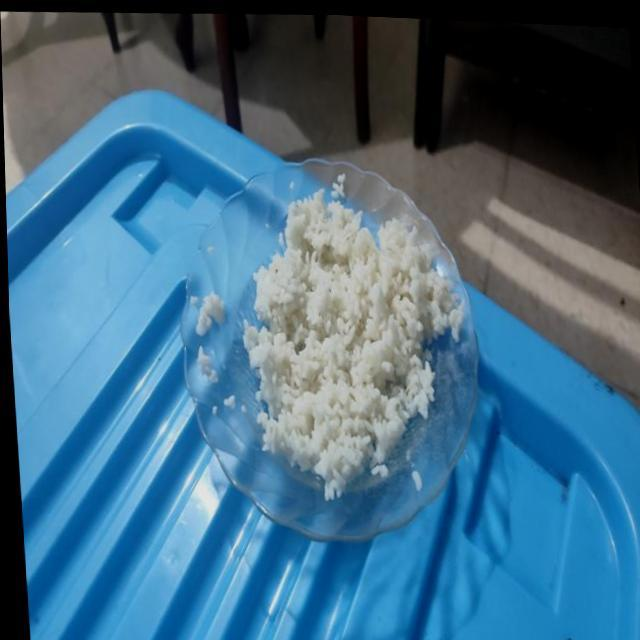nasi_putih: (243, 190, 464, 500)
